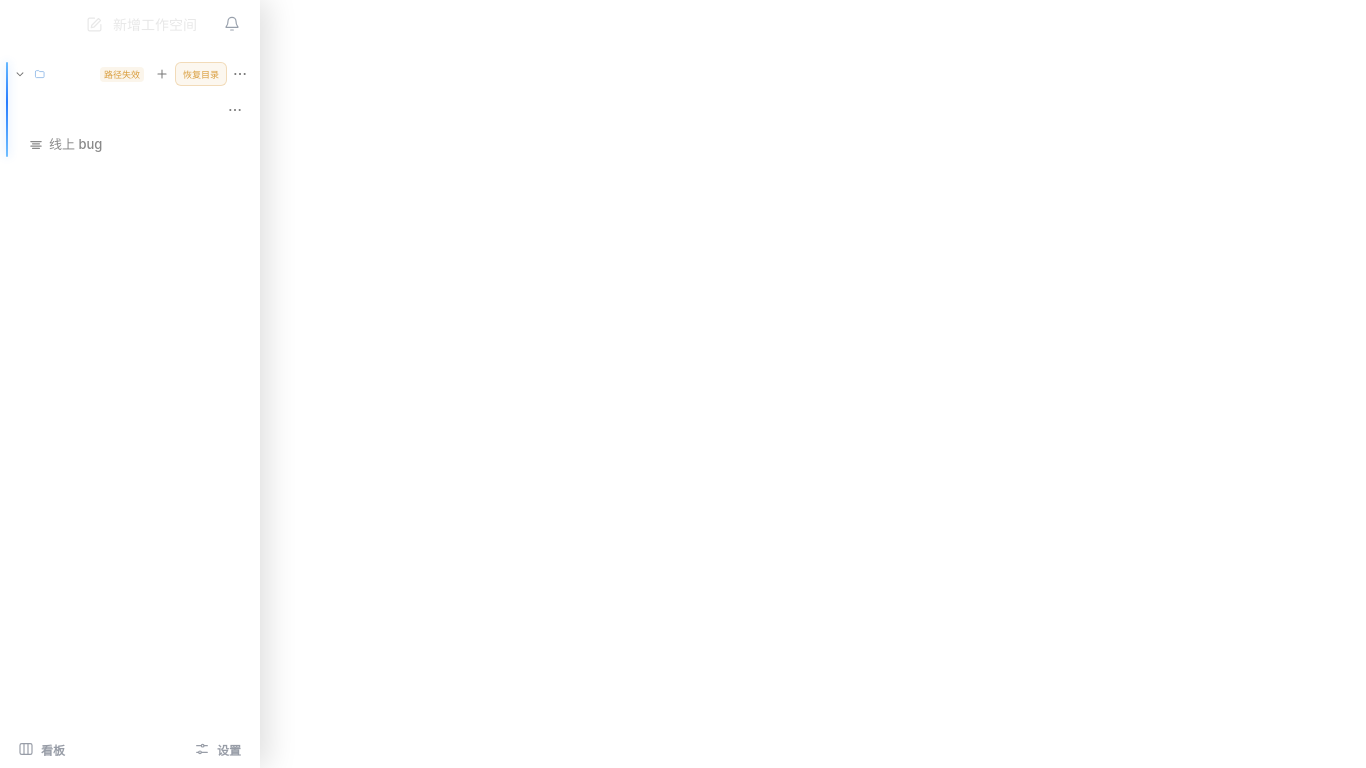
Workspace and Task navigation › disables duplicate Task rename while displaying the product error
Click the button named "事项菜单：事项 A" at (235, 110), box [224,99,246,121]
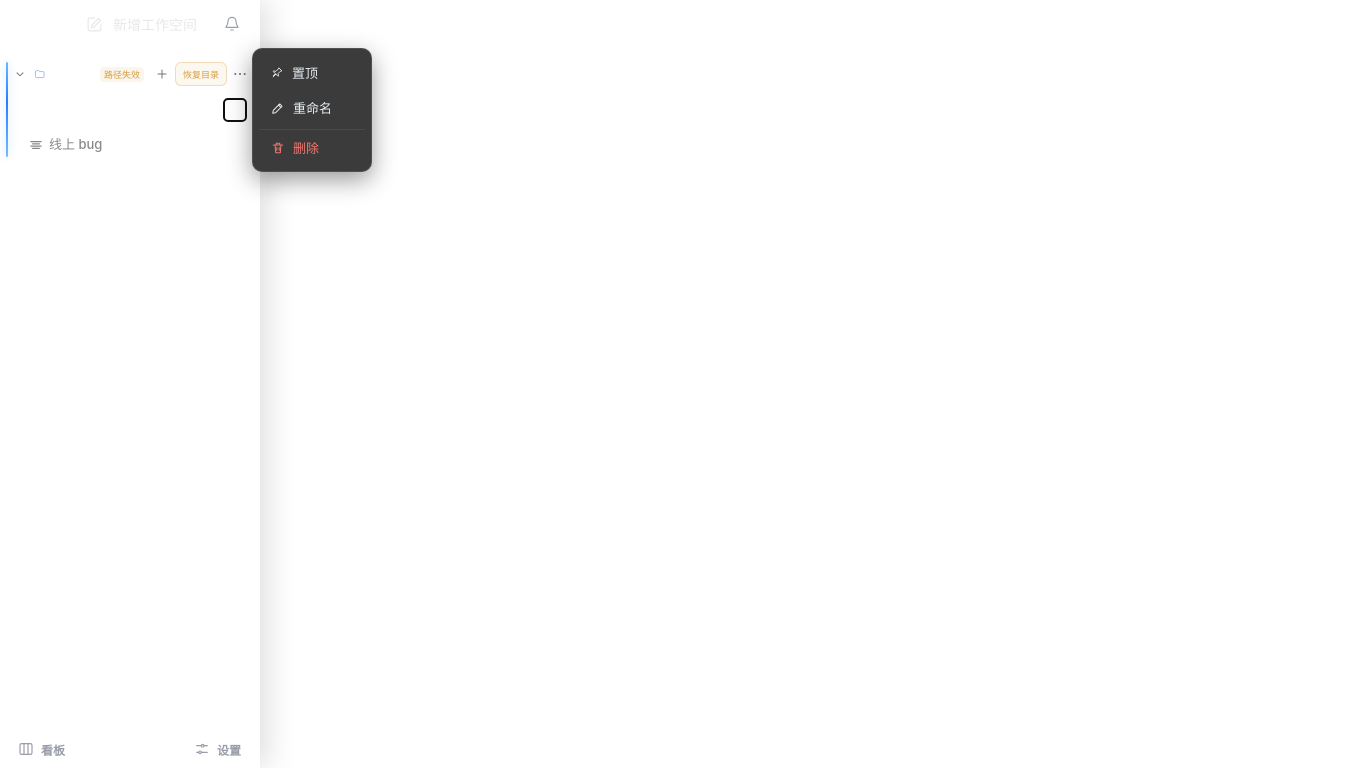
Click the menu item "重命名" at (312, 108), box [259,90,365,125]
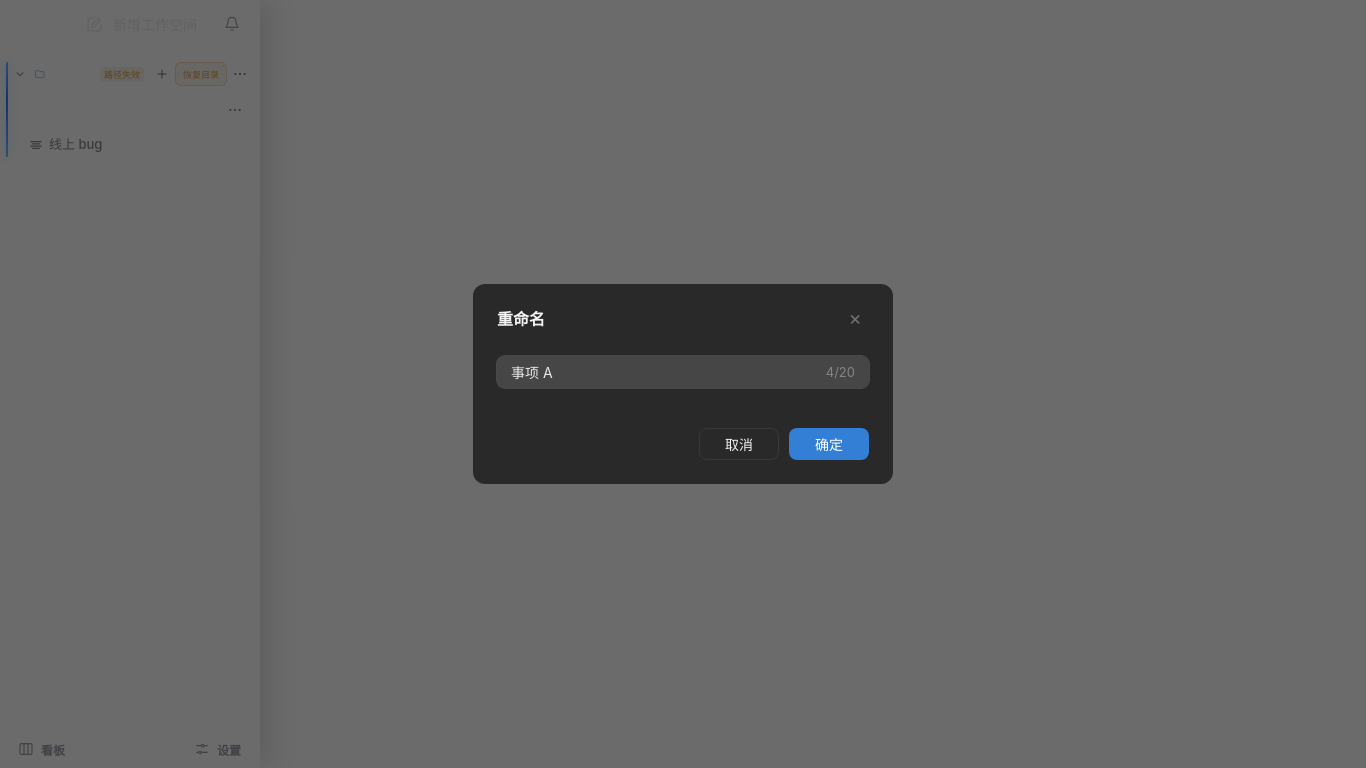
Replace the text in the field named "事项名称" with "线上 bug" at (683, 372), box [497,356,869,388]
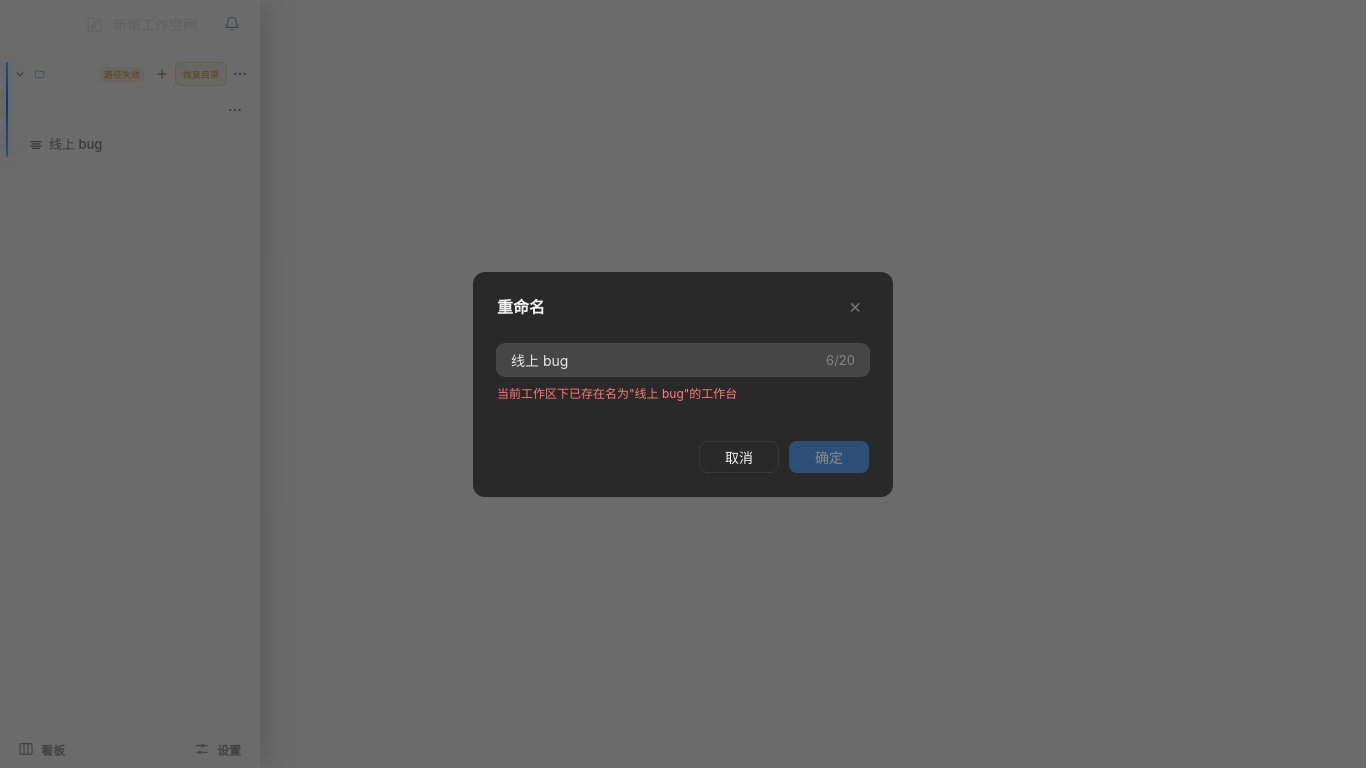
Check: the text "当前工作区下已存在名为\"线上 bug\"的工作台" is shown, box [497,386,737,400]
Check: the button "确定" is disabled, box [789,440,869,472]
